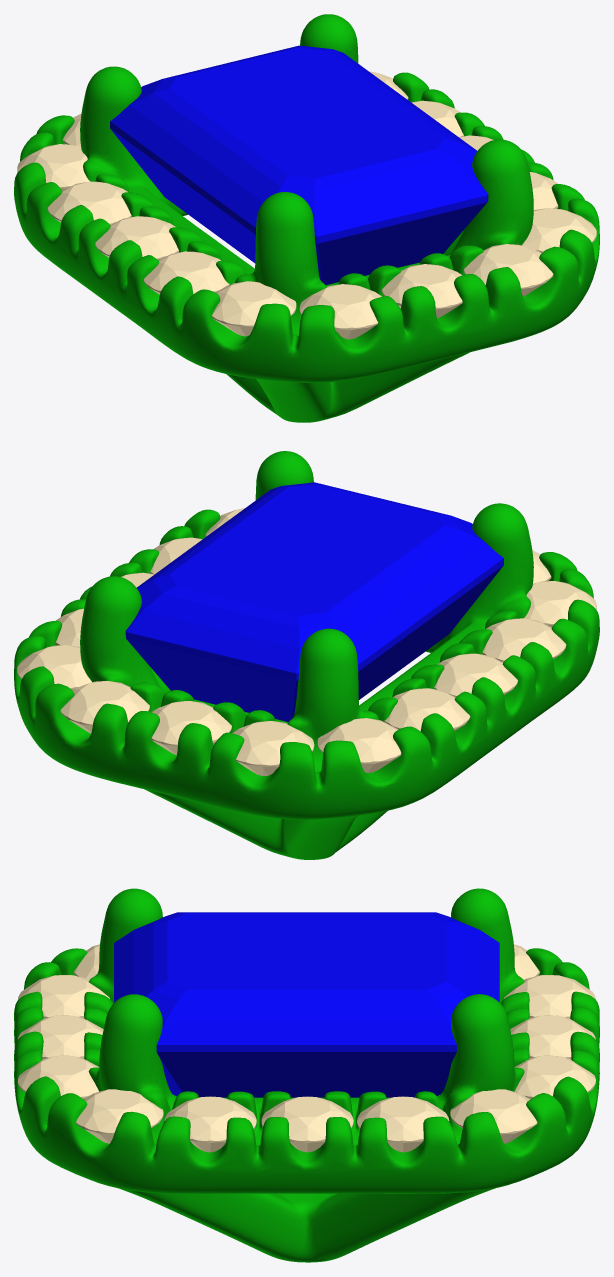
3 views of the same model, one above another, from view 1: azimuth 30°, elevation 25°; view 2: azimuth 150°, elevation 25°; view 3: azimuth 270°, elevation 25° (orthographic).
Parts seen in each view (by area): view 1: Metal01, Diamond_Emerald, Diamond_Round.002, Diamond_Round.001, Diamond_Round.006, Diamond_Round.011, Diamond_Round.003, Diamond_Round, Diamond_Round.012, Diamond_Round.013, Diamond_Round.005, Diamond_Round.009 (+1 smaller); view 2: Metal01, Diamond_Emerald, Diamond_Round.014, Diamond_Round.013, Diamond_Round.007, Diamond_Round.012, Diamond_Round.003, Diamond_Round.011, Diamond_Round.015, Diamond_Round.002, Diamond_Round.008, Diamond_Round.004 (+1 smaller); view 3: Metal01, Diamond_Emerald, Diamond_Round.004, Diamond_Round.009, Diamond_Round.010, Diamond_Round.005, Diamond_Round.008, Diamond_Round.007, Diamond_Round.006, Diamond_Round.001, Diamond_Round.014, Diamond_Round.015 (+3 smaller).
Boxes of the visible parts, bbox=[...] form: Metal01: bbox=[14, 14, 599, 422]; Diamond_Emerald: bbox=[110, 45, 488, 285]; Diamond_Round.002: bbox=[212, 281, 296, 336]; Diamond_Round.001: bbox=[299, 284, 381, 339]; Diamond_Round.006: bbox=[464, 244, 553, 296]; Diamond_Round.011: bbox=[95, 216, 178, 260]; Diamond_Round.003: bbox=[144, 251, 229, 294]; Diamond_Round: bbox=[382, 264, 462, 318]; Diamond_Round.012: bbox=[47, 181, 131, 224]; Diamond_Round.013: bbox=[17, 144, 90, 190]; Diamond_Round.005: bbox=[522, 208, 596, 253]; Diamond_Round.009: bbox=[411, 100, 463, 136]; Metal01: bbox=[14, 451, 599, 859]; Diamond_Emerald: bbox=[125, 482, 503, 722]; Diamond_Round.014: bbox=[232, 721, 314, 775]; Diamond_Round.013: bbox=[317, 718, 401, 772]; Diamond_Round.007: bbox=[60, 681, 149, 733]; Diamond_Round.012: bbox=[384, 688, 470, 731]; Diamond_Round.003: bbox=[482, 618, 566, 662]; Diamond_Round.011: bbox=[434, 653, 517, 697]; Diamond_Round.015: bbox=[151, 701, 231, 755]; Diamond_Round.002: bbox=[524, 581, 596, 627]; Diamond_Round.008: bbox=[17, 645, 91, 689]; Diamond_Round.004: bbox=[150, 537, 202, 574]; Metal01: bbox=[14, 888, 599, 1262]; Diamond_Emerald: bbox=[114, 912, 499, 1097]; Diamond_Round.004: bbox=[164, 1096, 256, 1152]; Diamond_Round.009: bbox=[357, 1096, 449, 1152]; Diamond_Round.010: bbox=[261, 1096, 353, 1152]; Diamond_Round.005: bbox=[76, 1089, 163, 1143]; Diamond_Round.008: bbox=[450, 1089, 537, 1143]; Diamond_Round.007: bbox=[514, 1055, 595, 1099]; Diamond_Round.006: bbox=[18, 1055, 99, 1099]; Diamond_Round.001: bbox=[18, 975, 109, 1018]; Diamond_Round.014: bbox=[504, 975, 595, 1018]; Diamond_Round.015: bbox=[510, 1015, 595, 1059].
Size of the model in its own units: 8.47 by 5.93 by 10.18.
